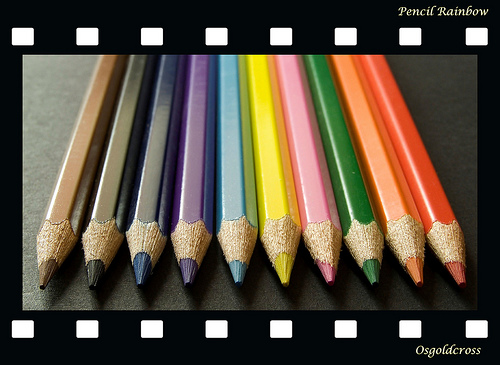pen_tip: (382, 201, 437, 294), (425, 200, 471, 304), (254, 200, 305, 291), (302, 206, 349, 298), (77, 215, 128, 297), (29, 212, 79, 295), (211, 212, 260, 292), (340, 204, 389, 284), (166, 208, 212, 292), (123, 212, 171, 292)
